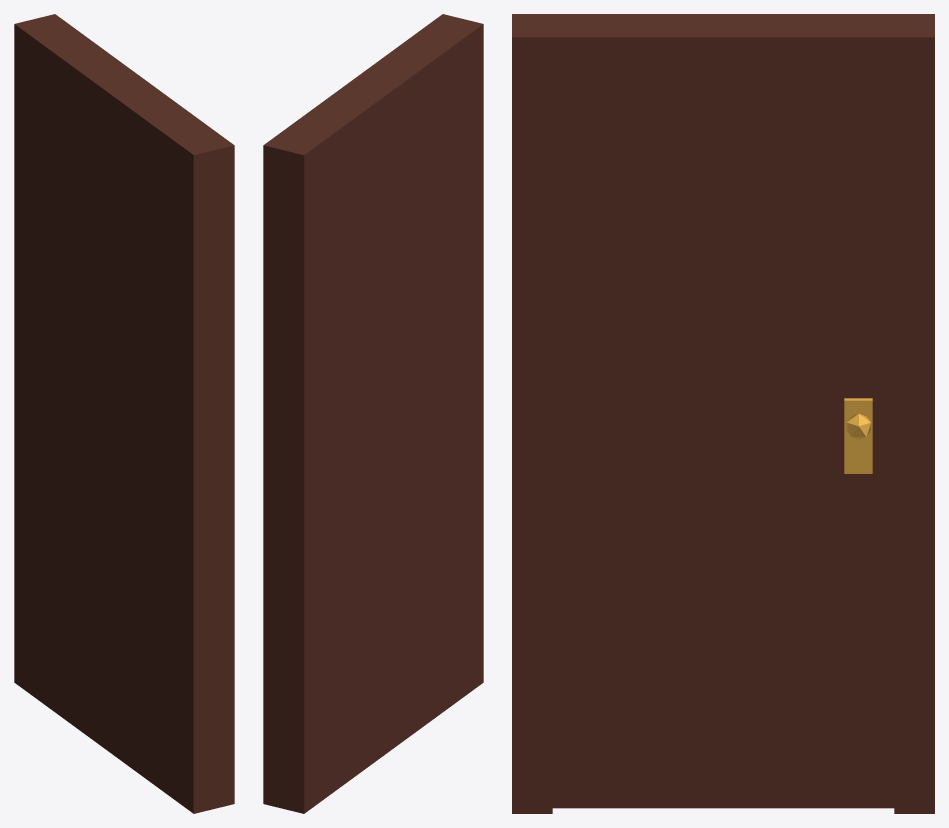
File: porta.fbx
The picture shows the model from 3 angles, left to right: view 1: azimuth 30°, elevation 25°; view 2: azimuth 150°, elevation 25°; view 3: azimuth 270°, elevation 25°; orthographic projection. The views are drawn at different scales.
Parts seen in each view (by area): view 1: Cube; view 2: Cube; view 3: Cube.
Part boxes in pixels (box(x1,y1,x2,y2)): Cube: box(14, 14, 234, 813); Cube: box(263, 14, 483, 813); Cube: box(512, 14, 934, 813).
Bounding box in the file's own units: 108 × 1205 × 595.
